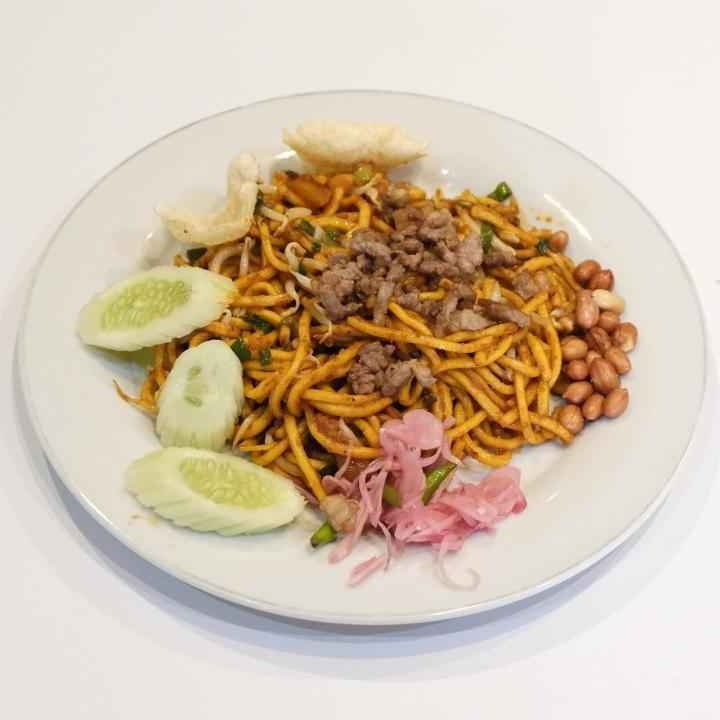mie_aceh: (144, 159, 561, 494)
